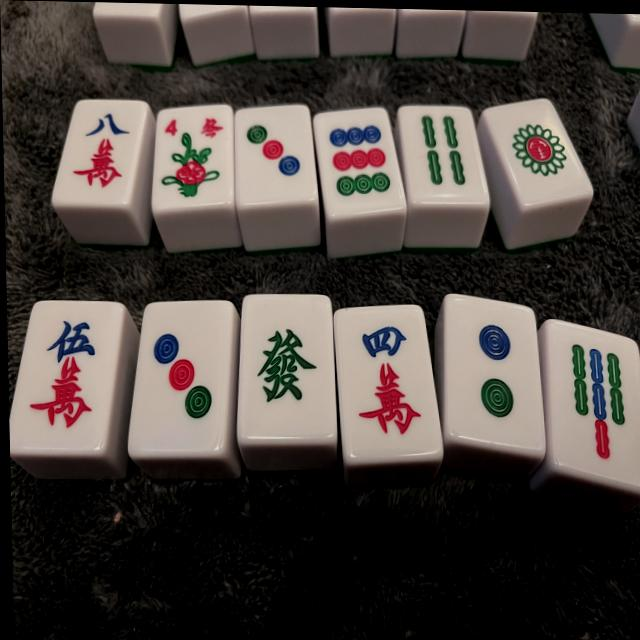fa: (233, 294, 337, 445)
ff4: (151, 104, 238, 211)
m4: (333, 303, 442, 465)
m5: (9, 302, 131, 460)
m8: (50, 101, 150, 207)
s4: (396, 106, 489, 205)
s7: (548, 319, 640, 489)
t1: (484, 94, 594, 209)
t2: (445, 294, 549, 455)
t3: (126, 300, 242, 461), (234, 106, 320, 210)
t9: (312, 107, 407, 221)
